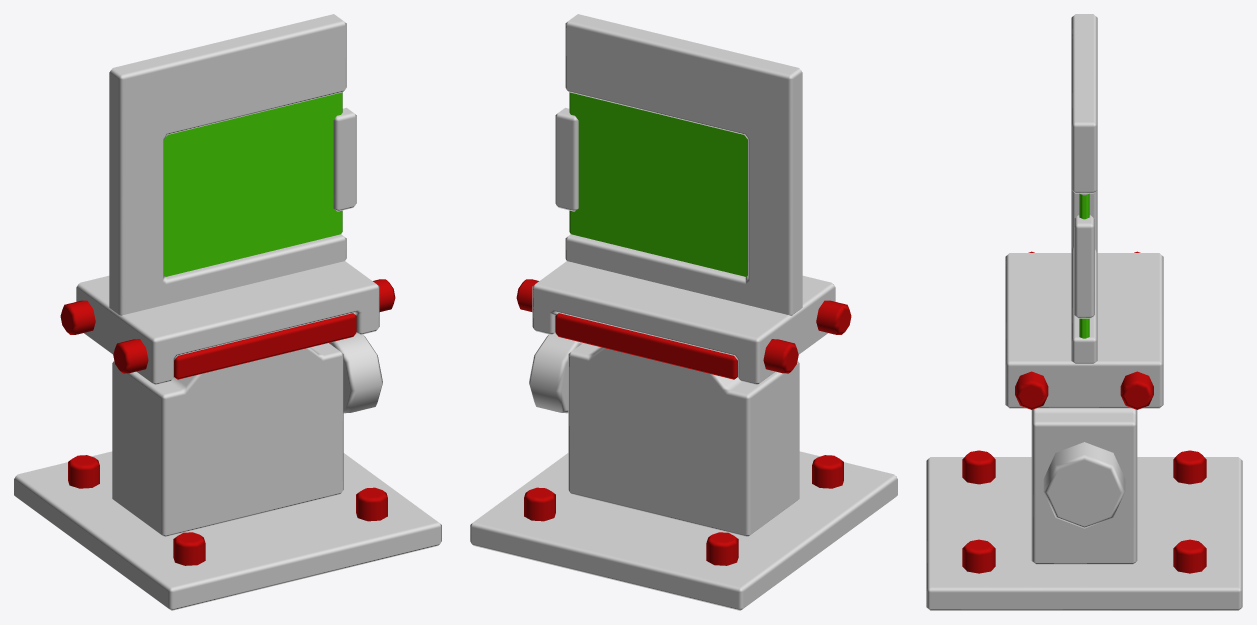
File: Optic02b.fbx
3 renders of one model, left to right at view 1: azimuth 30°, elevation 25°; view 2: azimuth 150°, elevation 25°; view 3: azimuth 270°, elevation 25°, orthographic.
Visible parts, largest first — view 1: Optic02b; view 2: Optic02b; view 3: Optic02b.
Part boxes in pixels (x1,y1,x2,y2): Optic02b: (14, 14, 441, 610); Optic02b: (470, 14, 897, 610); Optic02b: (926, 14, 1242, 610).
Bounding box in the file's own units: 7.5 × 12.5 × 7.5.
